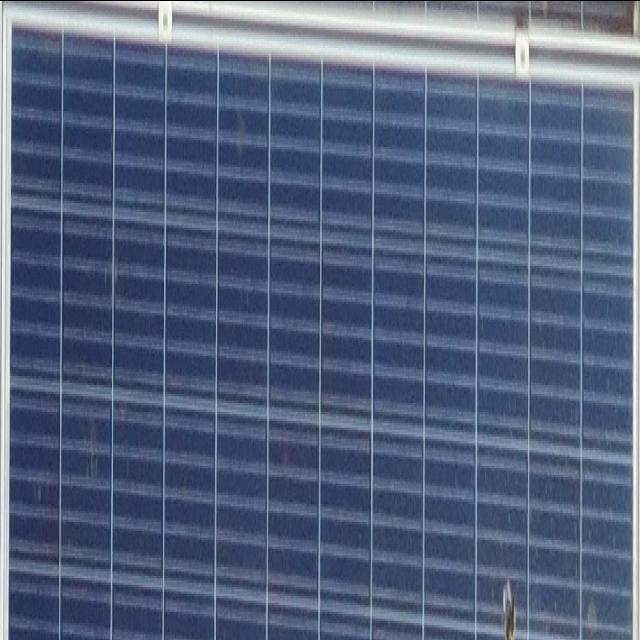bird-droppings: (490, 560, 520, 640)
